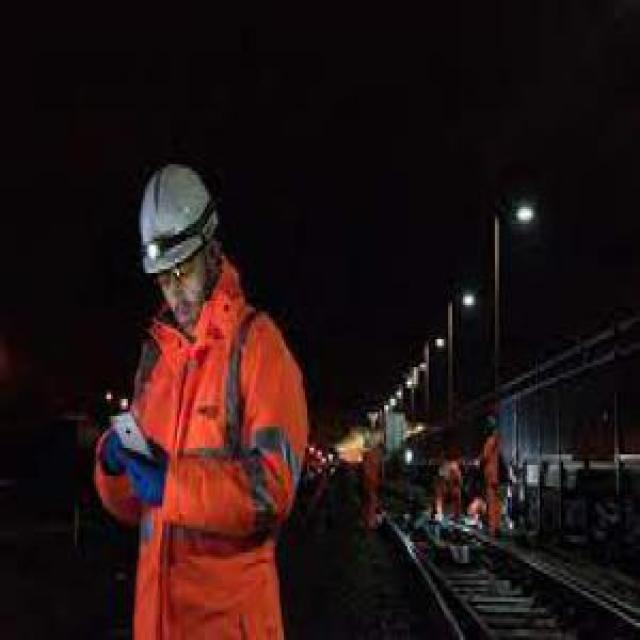danger: (419, 410, 515, 553), (344, 421, 390, 530)
rail: (347, 464, 640, 638)
